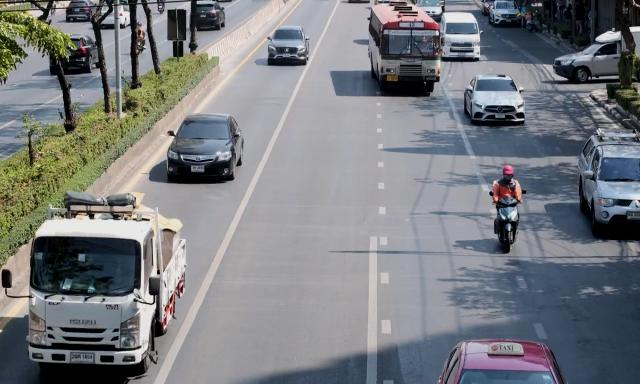caminhaop: (23, 194, 192, 374)
carro: (571, 125, 640, 235), (434, 335, 570, 384), (163, 112, 246, 186), (461, 73, 525, 125), (49, 34, 104, 79), (266, 24, 311, 67), (191, 1, 227, 33), (93, 4, 134, 29), (488, 0, 522, 30), (62, 0, 96, 22), (418, 0, 443, 19)
moto: (491, 197, 526, 253), (524, 18, 542, 36), (157, 0, 165, 15)
onibus: (364, 3, 443, 94)
van: (546, 25, 640, 83), (436, 11, 482, 60)
